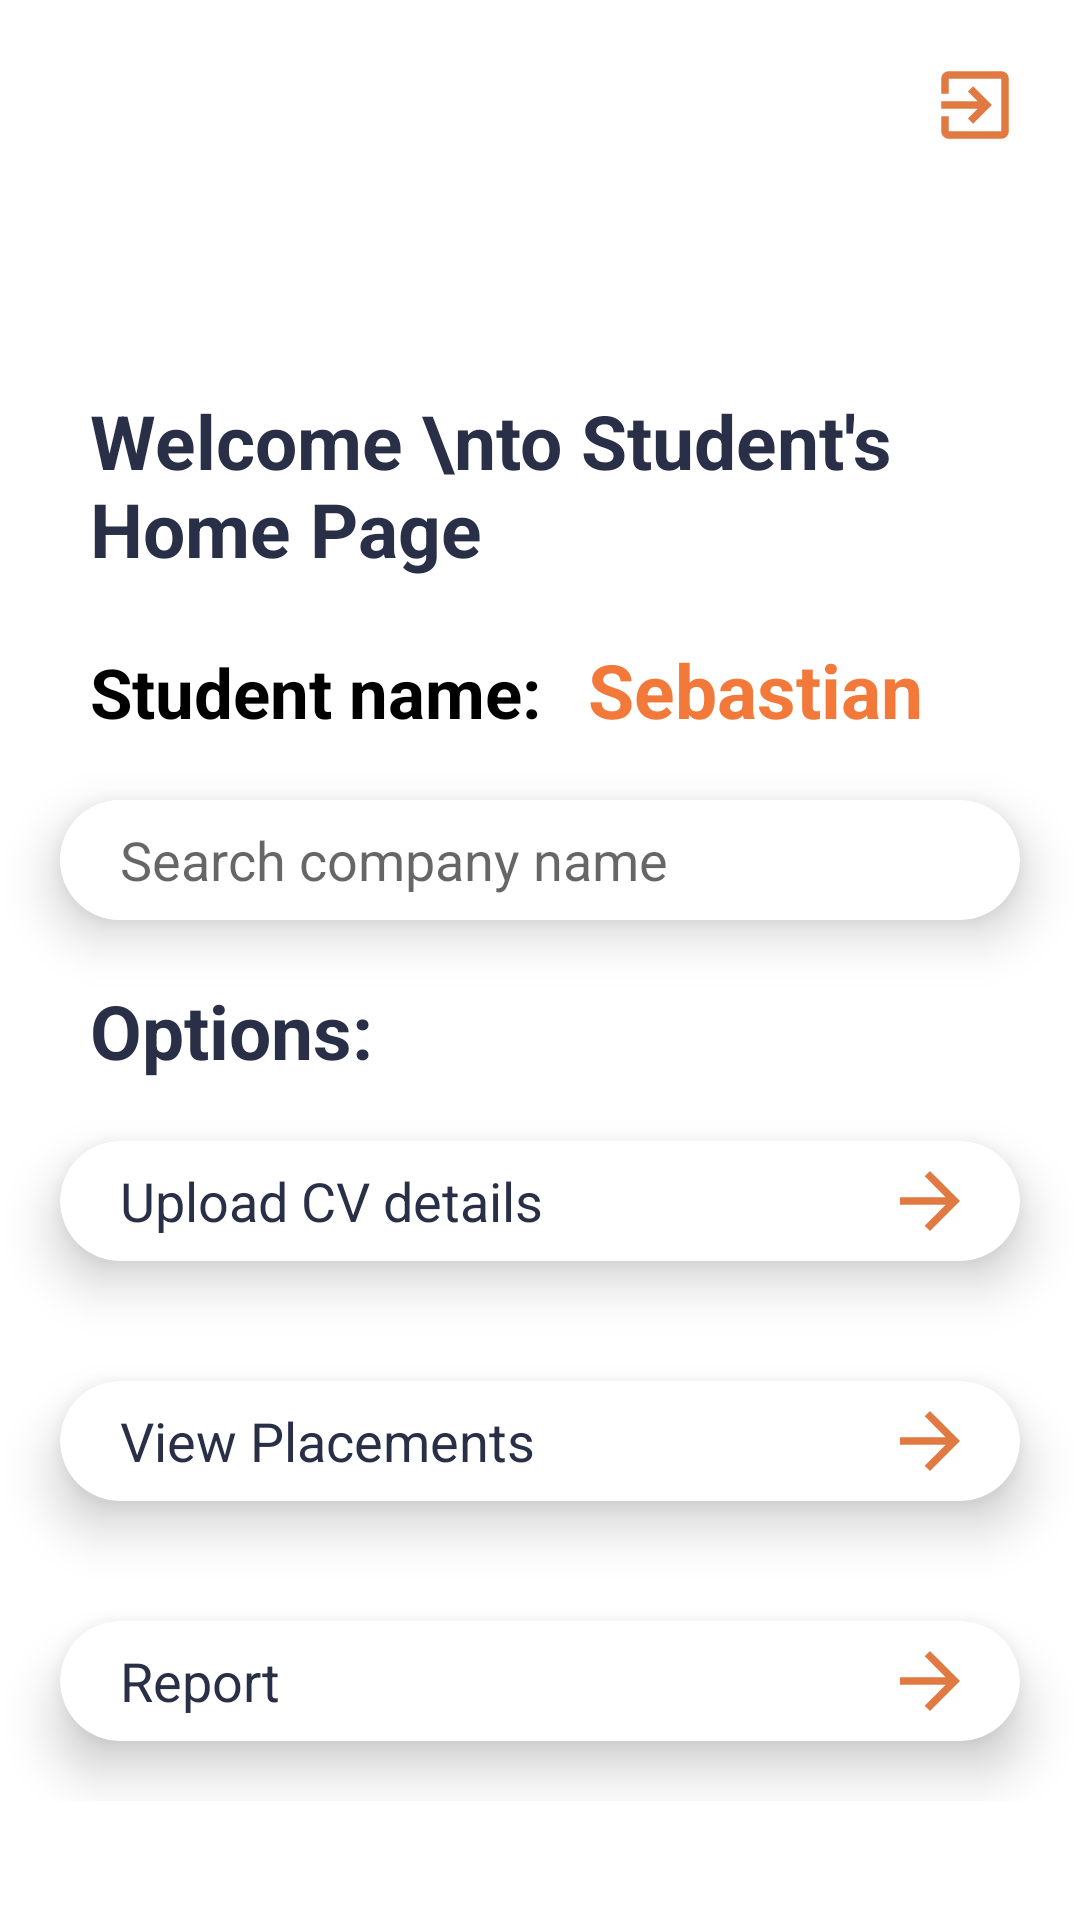

Screen size 1080px x 1920px. Icon name, then its box in pixels as bbox=(x1, y1, x2, y2):
arrow forward: bbox=(900, 1171, 960, 1231), bbox=(900, 1411, 960, 1471), bbox=(900, 1651, 960, 1711)
exit to app: bbox=(941, 71, 1009, 139)
